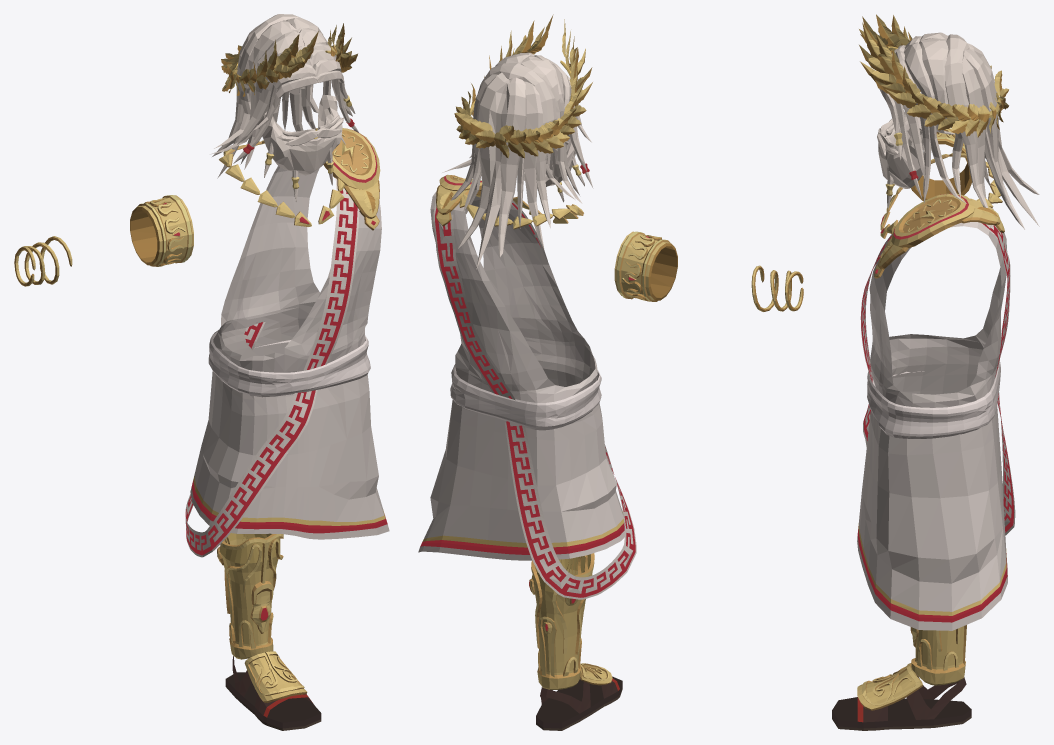
The model's file is greekZeus.glb.
3 views of the same model, side by side, from view 1: azimuth 30°, elevation 25°; view 2: azimuth 150°, elevation 25°; view 3: azimuth 270°, elevation 25° (orthographic). The views are drawn at different scales.
Visible parts, largest first — view 1: greekZeusBody, greekZeusHairwithWreath, greekZeusLegArmor, greekZeusFootArmor, greekZeusUpperArmBrace, greekZeusWristBand; view 2: greekZeusBody, greekZeusHairwithWreath, greekZeusLegArmor, greekZeusUpperArmBrace, greekZeusFootArmor, greekZeusWristBand; view 3: greekZeusBody, greekZeusHairwithWreath, greekZeusFootArmor, greekZeusLegArmor, greekZeusUpperArmBrace.
Part boxes in pixels (x1,y1,x2,y2): greekZeusBody: (185, 128, 389, 557); greekZeusHairwithWreath: (210, 14, 358, 201); greekZeusLegArmor: (217, 533, 283, 659); greekZeusFootArmor: (225, 651, 321, 730); greekZeusUpperArmBrace: (130, 195, 193, 266); greekZeusWristBand: (14, 236, 72, 286); greekZeusBody: (418, 174, 636, 599); greekZeusHairwithWreath: (442, 14, 593, 269); greekZeusLegArmor: (529, 553, 594, 689); greekZeusUpperArmBrace: (614, 231, 677, 301); greekZeusFootArmor: (536, 663, 622, 730); greekZeusWristBand: (751, 265, 803, 311); greekZeusBody: (857, 153, 1015, 630); greekZeusHairwithWreath: (859, 14, 1039, 229); greekZeusFootArmor: (832, 663, 971, 730); greekZeusLegArmor: (910, 625, 966, 685); greekZeusUpperArmBrace: (911, 128, 972, 200).
Size of the model in its own units: 1.15 by 2.04 by 0.5352.
